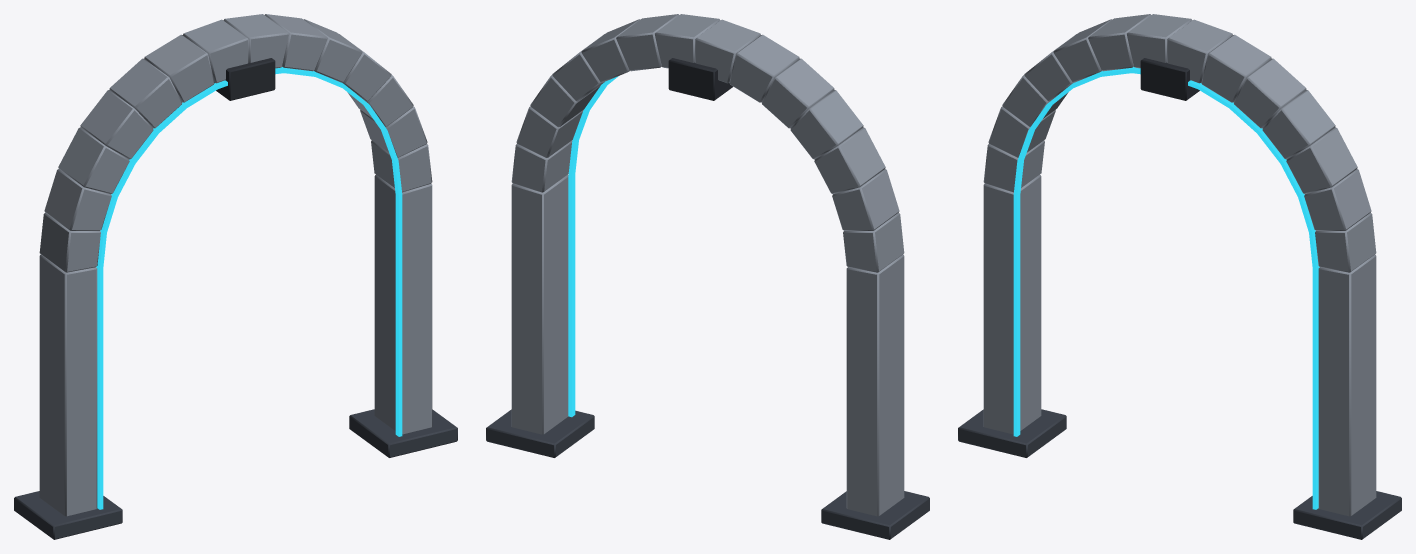
Rendered from pillar_arch_rib.glb.
3 renders of one model, left to right at view 1: azimuth 30°, elevation 25°; view 2: azimuth 150°, elevation 25°; view 3: azimuth 330°, elevation 25°, orthographic.
Visible parts, largest first — view 1: pillar_arch_rib; view 2: pillar_arch_rib; view 3: pillar_arch_rib.
Boxes of the visible parts, bbox=[...] form: pillar_arch_rib: bbox=[14, 14, 457, 539]; pillar_arch_rib: bbox=[486, 14, 929, 539]; pillar_arch_rib: bbox=[958, 14, 1401, 539].
Bounding box in the file's own units: 3.48 × 3.68 × 0.6.
